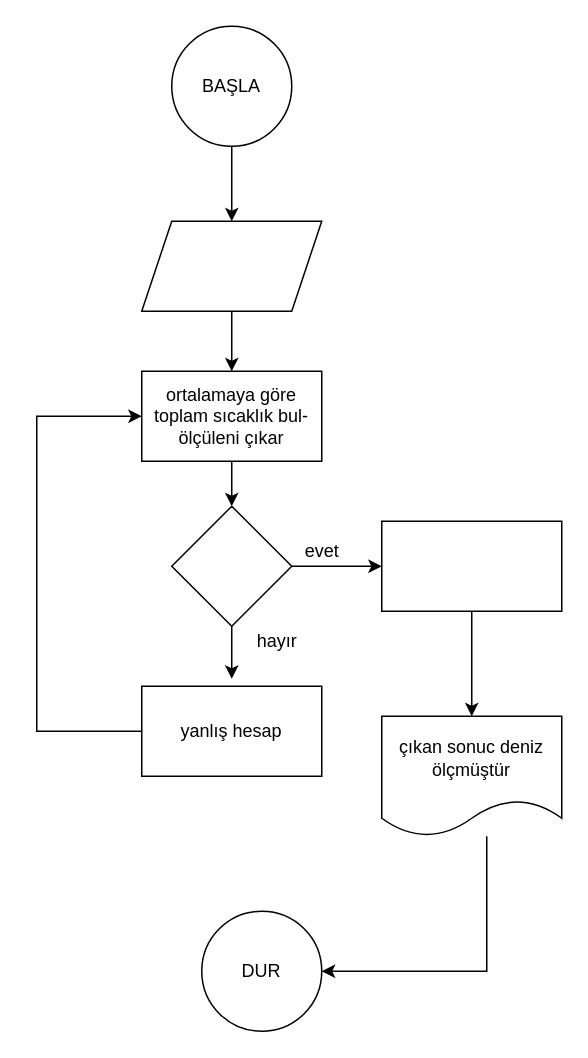
This 588x1058 diagram has some shape labels left out. The shapes that lost their labels are listed below. From the top down, each one's centre as x and y in pixels, then its label:
At pixel 231 265: "sıcaklık ölç".
At pixel 231 565: "fark=0".
At pixel 471 565: "farkı formülle bul".
